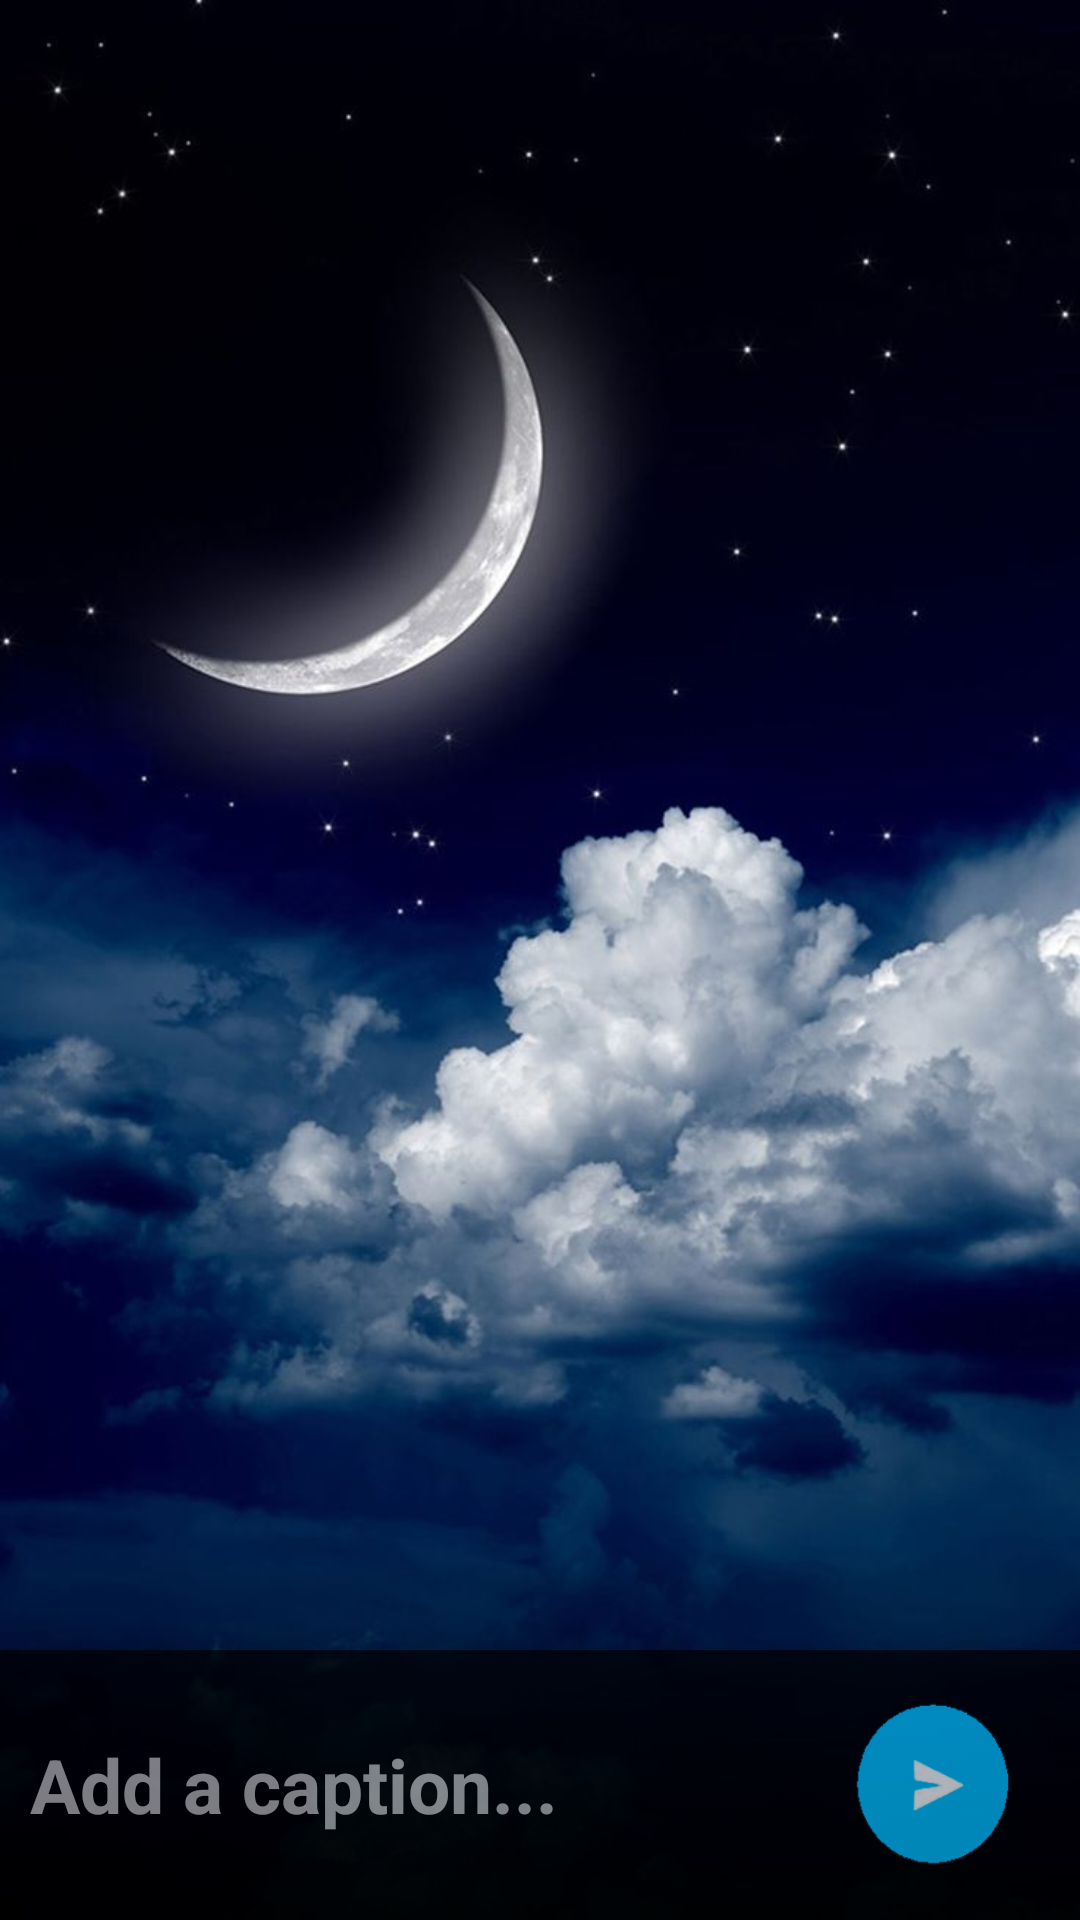

Icon bounding boxes for this 1080 x 1920 phone screenshot, format (x1, y1, x2, y2):
send photo: (856, 1704, 1009, 1864)
